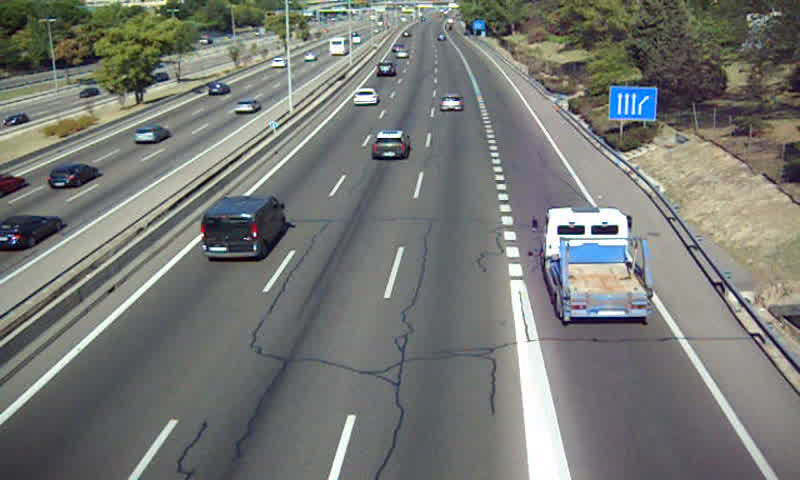car: (371, 130, 409, 161), (439, 92, 464, 113), (352, 87, 379, 104), (375, 62, 394, 77), (394, 48, 412, 60)
small-truck: (543, 208, 653, 321)
van: (203, 197, 284, 261)
